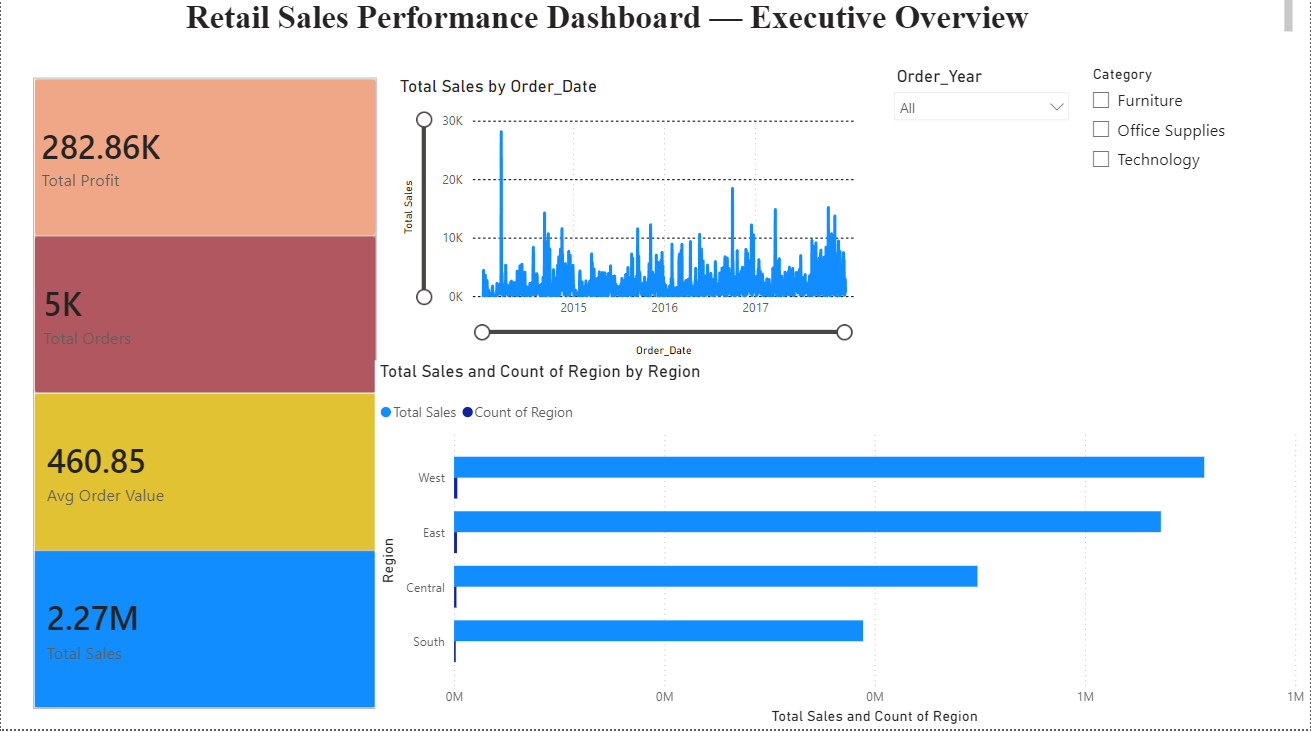

The dashboard page shown, as its layout file describes it:
{"tool":"powerbi","page":{"name":"Executive Overview","canvas":[1280,720],"ordinal":0},"visuals":[{"type":"cardVisual","fields":{"Data":["cleaned_superstore.Total Profit","cleaned_superstore.Total Orders","cleaned_superstore.Avg Order Value","cleaned_superstore.Total Sales"]},"box":[14.7,66,370.5,654.2],"z":0},{"type":"lineChart","fields":{"Category":["cleaned_superstore.Order_Date"],"Y":["cleaned_superstore.Total Sales"]},"box":[385.2,80.7,458.6,278.8],"z":1000},{"type":"clusteredBarChart","fields":{"Y":["cleaned_superstore.Total Sales","CountNonNull(cleaned_superstore.Region)"],"Category":["cleaned_superstore.Region"]},"box":[365.6,359.5,914.7,360.7],"z":2000},{"type":"slicer","fields":{"Values":["cleaned_superstore.Order_Year"]},"box":[863.3,66,192,278.8],"z":3000},{"type":"textbox","box":[56.3,0,1211.8,45.2],"z":4000},{"type":"slicer","fields":{"Values":["cleaned_superstore.Category"]},"box":[1055.3,66,212.8,278.8],"z":5000}]}

Visuals, with their boxes in screenshot pixels (x1, y1, x2, y2), scaled from the page's 1280x720 canvas onto the 1311x732 screenshot:
cardVisual - cleaned_superstore.Total Profit x cleaned_superstore.Total Orders: {"x1": 15, "y1": 67, "x2": 395, "y2": 731}
lineChart - cleaned_superstore.Order_Date x cleaned_superstore.Total Sales: {"x1": 395, "y1": 82, "x2": 864, "y2": 365}
clusteredBarChart - cleaned_superstore.Total Sales x CountNonNull(cleaned_superstore.Region): {"x1": 374, "y1": 365, "x2": 1310, "y2": 731}
slicer - cleaned_superstore.Order_Year: {"x1": 884, "y1": 67, "x2": 1081, "y2": 351}
textbox: {"x1": 58, "y1": 0, "x2": 1299, "y2": 46}
slicer - cleaned_superstore.Category: {"x1": 1081, "y1": 67, "x2": 1299, "y2": 351}
